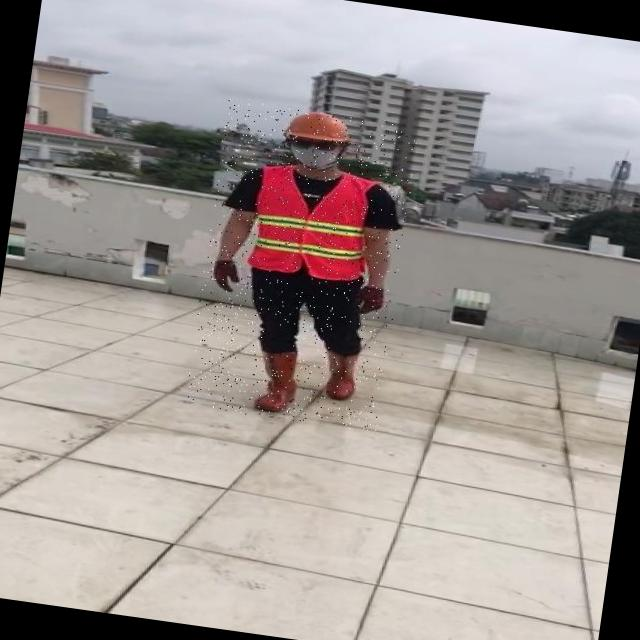boots: (250, 348, 303, 416), (319, 347, 366, 404)
helmet: (282, 104, 359, 146)
vest: (246, 162, 385, 284)
